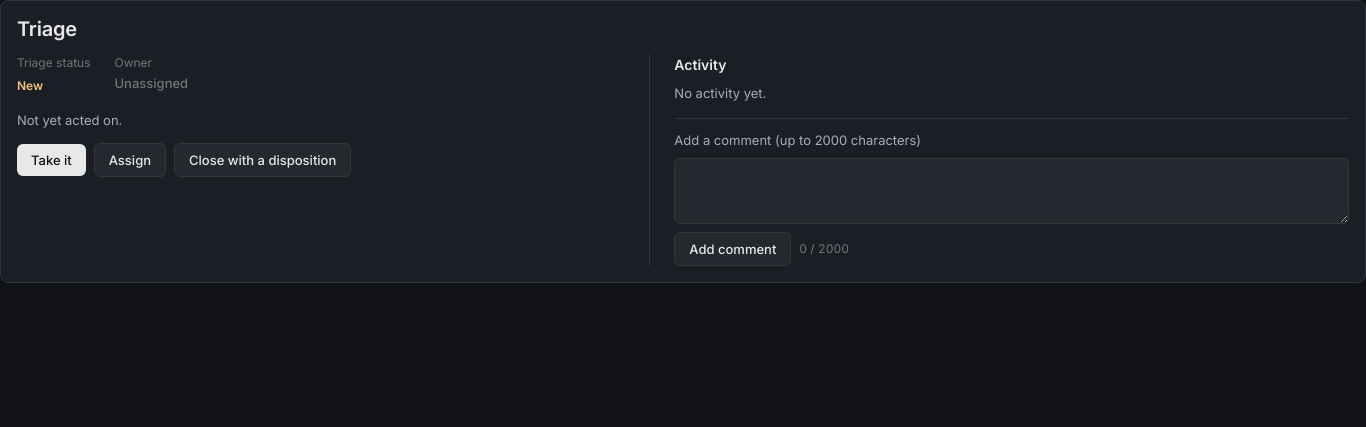
Test case: a 409 conflict › says who changed it, switches the controls off and does not overwrite
This screenshot has width=1366, height=427.
Click the button "Take it" at (51, 160), box [17,144,86,176]
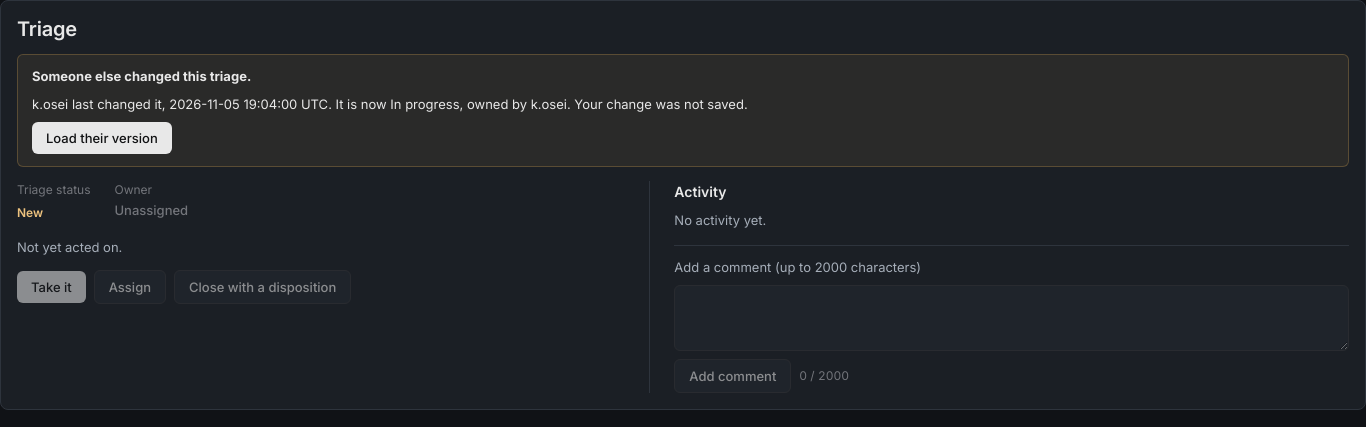
Check: the message shows "Someone else changed this triage.", box [32,68,251,84]
Check: the message shows "k.osei last changed it, 2026-11-05 19:04:00 UTC", box [17,54,1349,167]
Check: the message shows "It is now In progress, owned by k.osei. Your change was not saved.", box [328,96,748,112]
